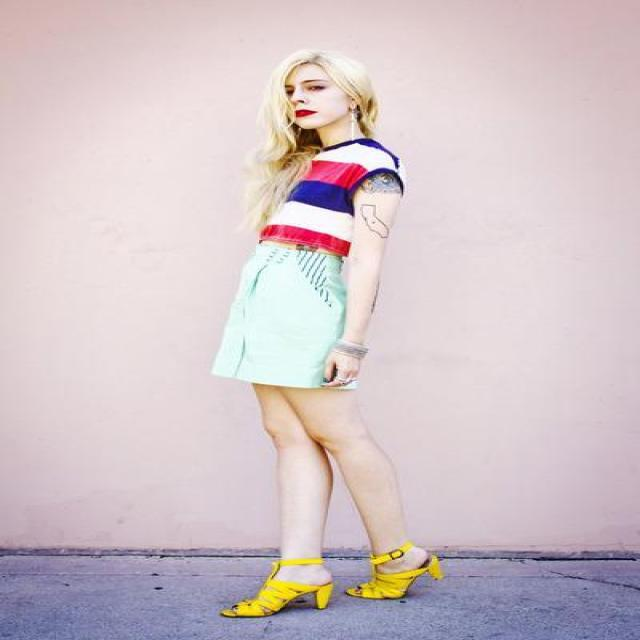shirt: (270, 138, 402, 236)
shoe: (236, 543, 442, 614)
skirt: (204, 225, 346, 387)
